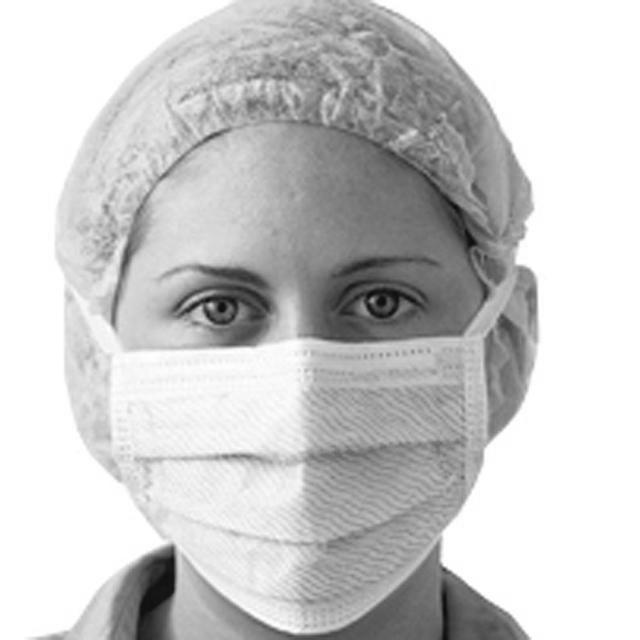fake: (84, 258, 540, 637)
real: (110, 118, 487, 640)
